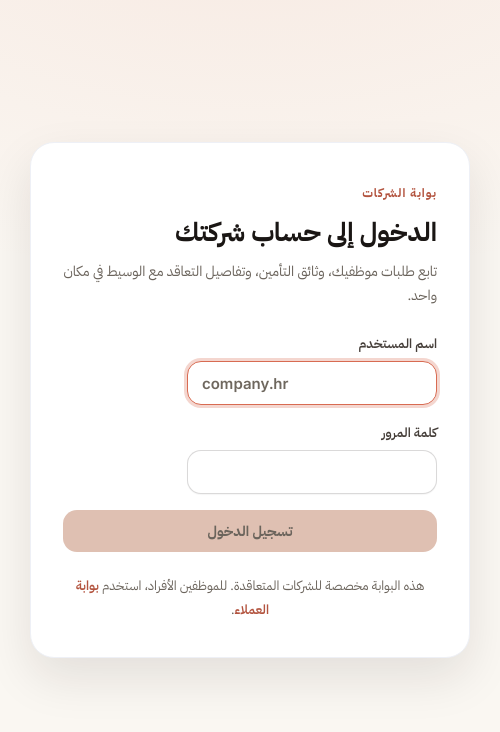
Test: corporate sign-in › reports wrong credentials in Arabic instead of a status code
Type "acme.hr" into the field with placeholder "company.hr". click: (312, 383)
box: left=187, top=361, right=437, bottom=405
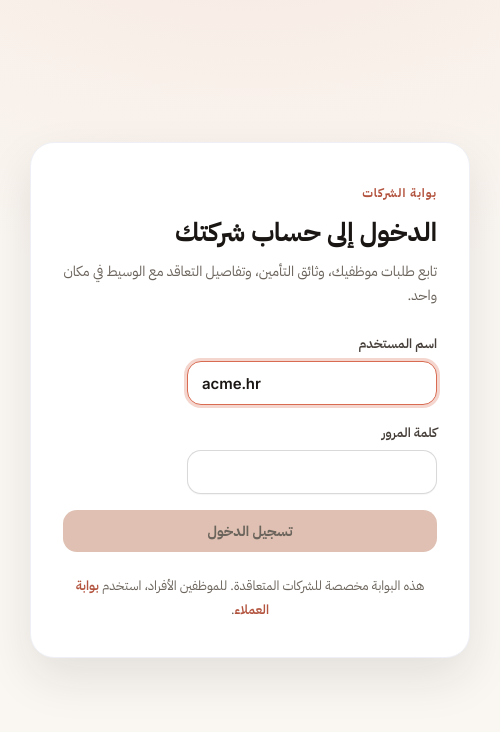
Type "wrong-password" into the password field labelled "كلمة المرور". click: (312, 472)
box: left=187, top=450, right=437, bottom=494
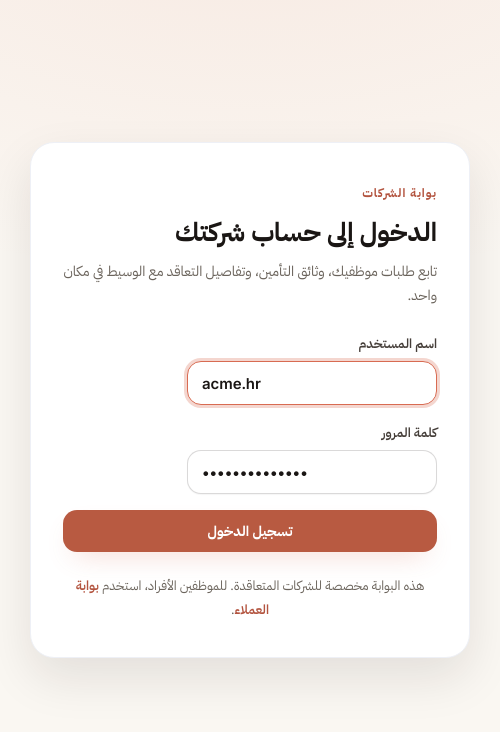
Click the button "تسجيل الدخول". click: (250, 531)
box: left=63, top=510, right=437, bottom=552
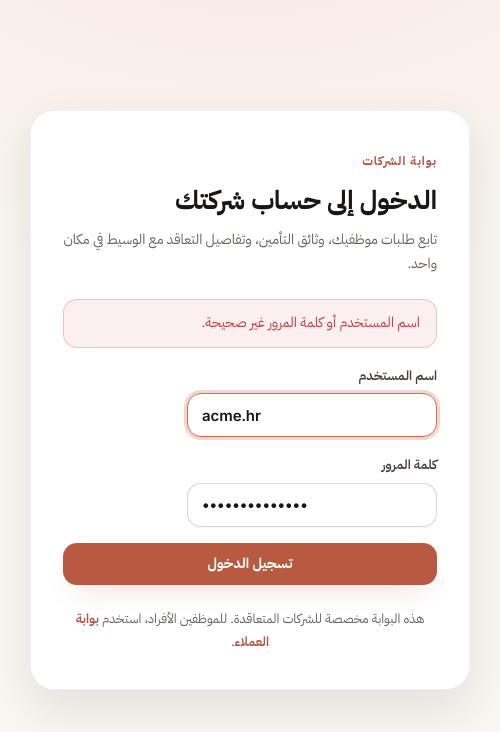
Expected: the message shows "غير صحيحة", left=201, top=312, right=420, bottom=334
